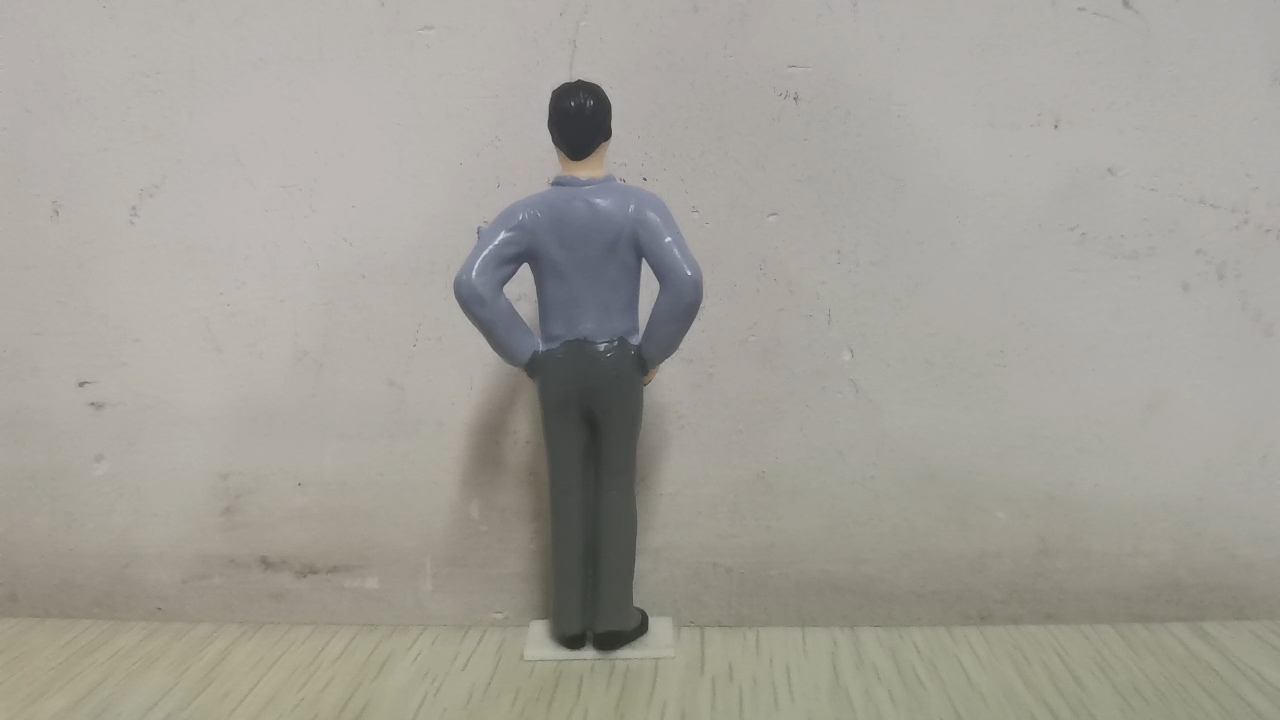person: (450, 77, 706, 654)
